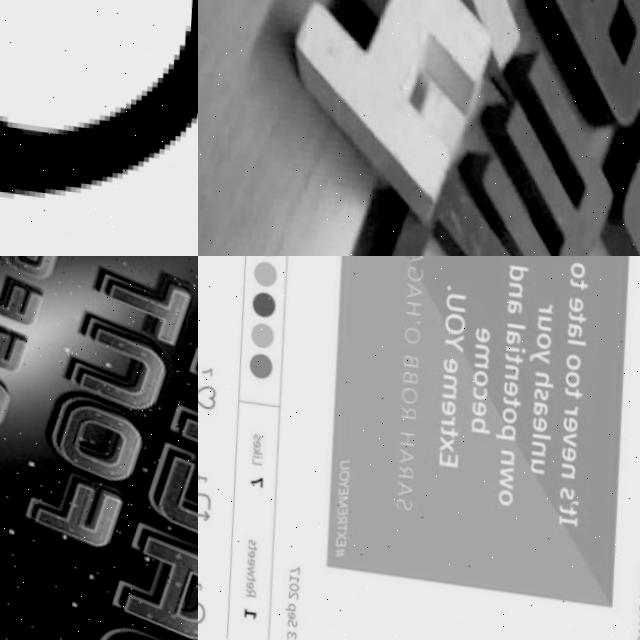3: (249, 473, 262, 485), (199, 365, 211, 375), (287, 563, 298, 572)
9: (0, 0, 198, 256)
A: (517, 0, 640, 125), (396, 443, 413, 459), (565, 315, 581, 331), (394, 477, 411, 492), (405, 279, 420, 295), (531, 394, 546, 409), (504, 324, 519, 339), (506, 293, 521, 308)
B: (468, 410, 489, 427), (399, 365, 416, 379), (401, 350, 417, 363)
C: (470, 380, 485, 394)
D: (507, 258, 528, 276)
E: (436, 446, 457, 462), (440, 352, 456, 369), (560, 409, 576, 425), (469, 394, 485, 410), (439, 395, 455, 411), (559, 439, 574, 455), (567, 289, 583, 304), (502, 374, 517, 390), (474, 321, 489, 337), (530, 410, 545, 425), (333, 503, 345, 514), (335, 482, 346, 492), (332, 535, 344, 544), (243, 578, 252, 588), (634, 625, 640, 637), (284, 608, 293, 616), (244, 556, 253, 564), (245, 548, 253, 557), (251, 437, 259, 446), (635, 594, 640, 606)
G: (406, 260, 422, 276)
H: (280, 0, 504, 221), (532, 364, 552, 380), (404, 296, 420, 311), (398, 426, 413, 441)
I: (557, 507, 576, 519), (504, 339, 524, 347), (250, 451, 261, 456)
K: (252, 446, 262, 453)
L: (379, 0, 537, 78), (567, 331, 585, 338), (530, 427, 549, 433), (505, 317, 525, 322), (249, 455, 260, 464)
M: (466, 27, 623, 256), (440, 368, 456, 394), (472, 337, 487, 363), (334, 490, 346, 504), (634, 606, 640, 626)
N: (558, 455, 574, 472), (529, 433, 545, 450), (506, 274, 522, 291), (502, 358, 517, 375), (498, 443, 513, 459)
O: (347, 135, 529, 256), (442, 307, 464, 329), (470, 362, 487, 382), (563, 344, 579, 364), (398, 382, 416, 399), (563, 361, 578, 381), (495, 482, 511, 500), (534, 325, 550, 342), (402, 322, 418, 339), (500, 400, 515, 418), (568, 256, 584, 271), (335, 465, 348, 477), (637, 571, 640, 584)
P: (493, 417, 514, 434), (281, 599, 293, 608)
R: (395, 461, 411, 474), (398, 401, 414, 414), (561, 397, 577, 409), (537, 294, 552, 306), (439, 410, 453, 420), (243, 586, 255, 596), (334, 511, 345, 521), (634, 635, 640, 640)
S: (557, 478, 573, 493), (531, 380, 547, 394), (394, 493, 410, 506), (284, 616, 294, 625), (246, 537, 254, 544), (252, 431, 260, 438)
T: (555, 497, 576, 509), (566, 271, 587, 283), (503, 345, 522, 358), (437, 420, 457, 432), (562, 379, 581, 391), (565, 304, 584, 315), (500, 390, 519, 401), (332, 518, 344, 528), (244, 574, 254, 579), (246, 543, 254, 549)
U: (444, 287, 465, 307), (534, 307, 550, 324), (528, 451, 543, 467), (337, 455, 348, 467), (637, 559, 640, 571)
V: (560, 424, 575, 440)
W: (588, 76, 640, 256), (496, 458, 512, 484), (244, 564, 253, 575)
X: (437, 431, 452, 447), (332, 527, 344, 537)
Y: (442, 326, 464, 347), (527, 342, 549, 357), (335, 474, 347, 485), (636, 582, 640, 596)
